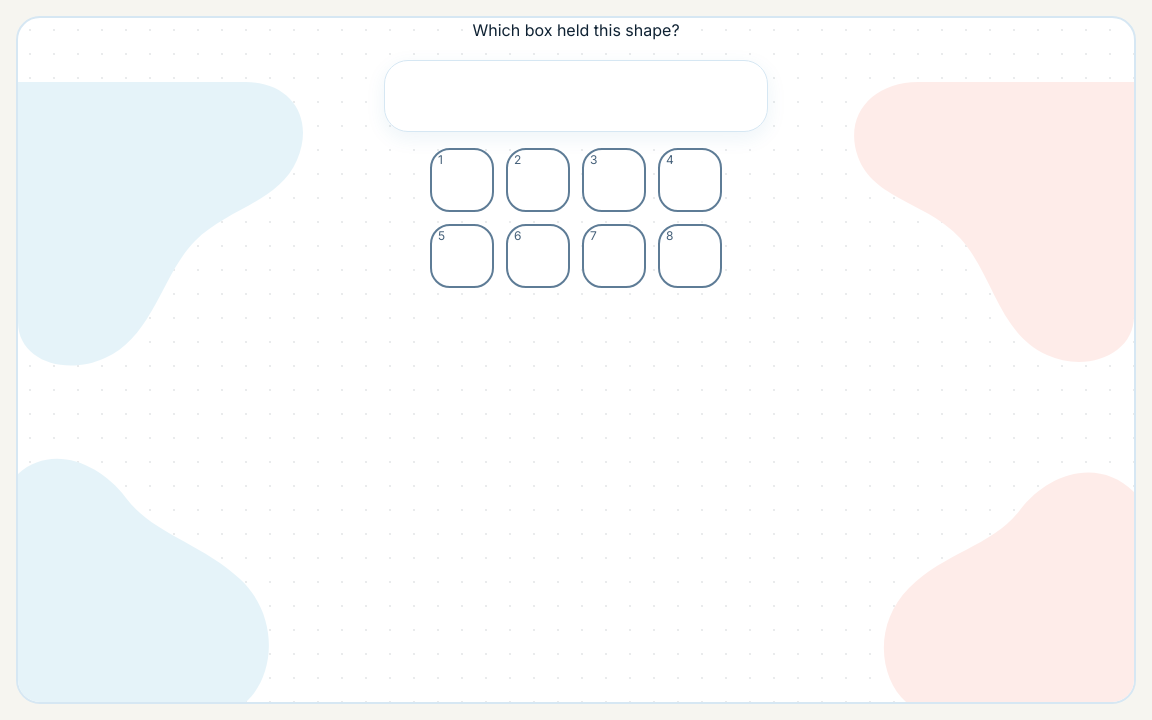
Test: Pair Finder › a hidden page during recall drops that choice; the stage cannot pass with it untested
Press the mouse on the button "6" at (538, 256), box [506,224,570,288]
Wait 10000 ms
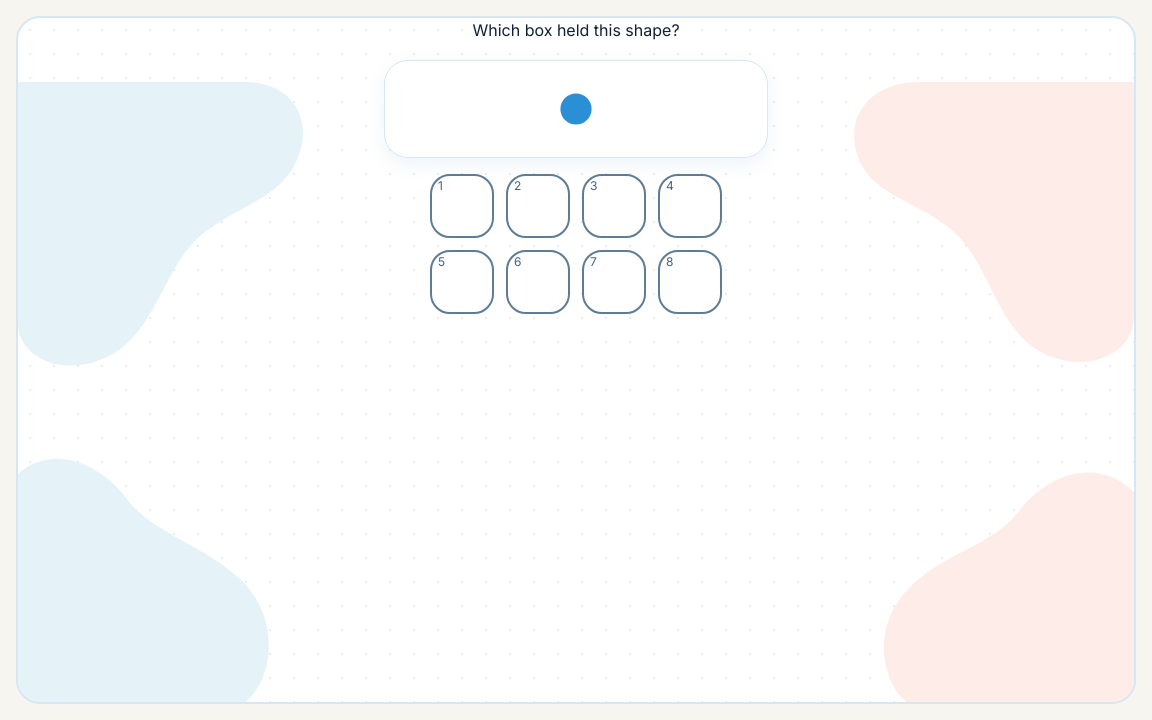
Press the mouse on the button "3" at (614, 206), box [582,174,646,238]
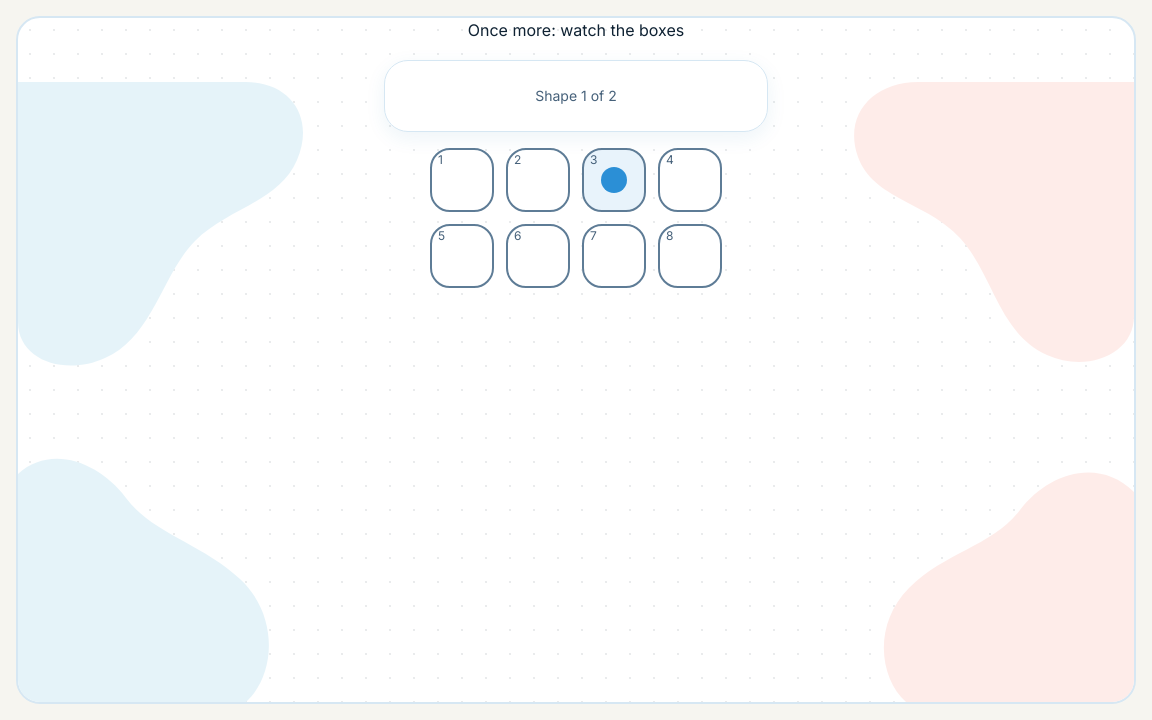
expect the text "Once more: watch the boxes" is shown: met, box [468,18,684,44]
